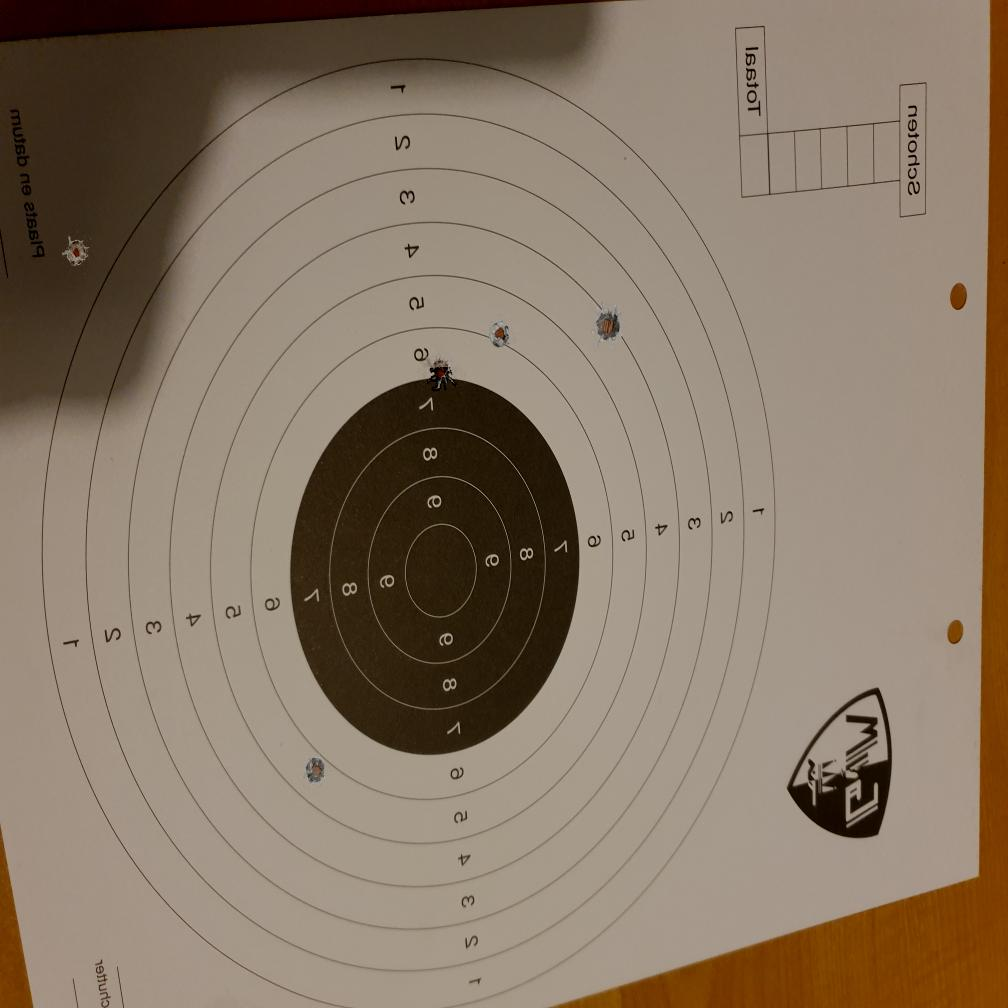0: (63, 234, 90, 268)
4: (594, 302, 623, 346)
5: (300, 753, 326, 788)
6: (490, 320, 512, 348)
7: (426, 357, 456, 393)
Target: (45, 52, 774, 1008)
black_contour: (291, 375, 578, 755)
